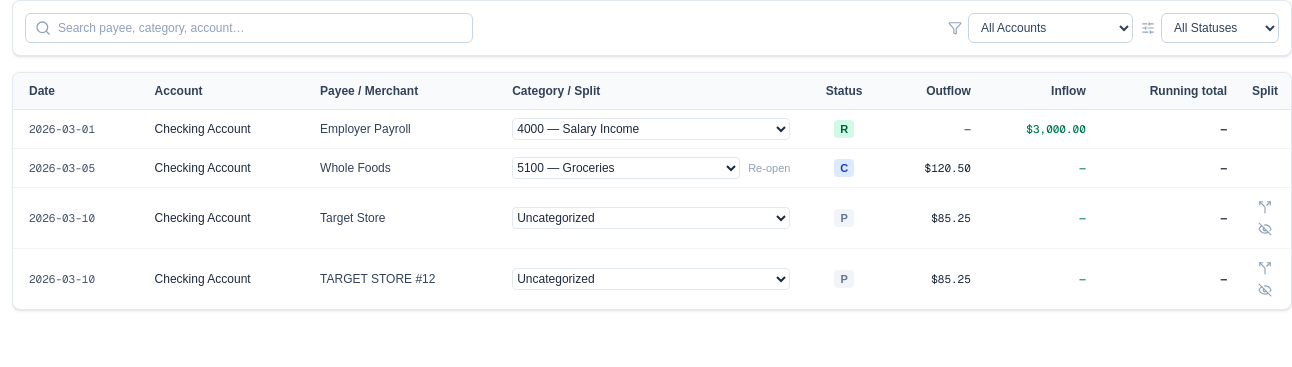
Test: TransactionRegister › offers to categorize the payee the same way from now on
Select "5100 — Groceries" in the dropdown named "Category for Target Store": (651, 218) [512,207,790,229]
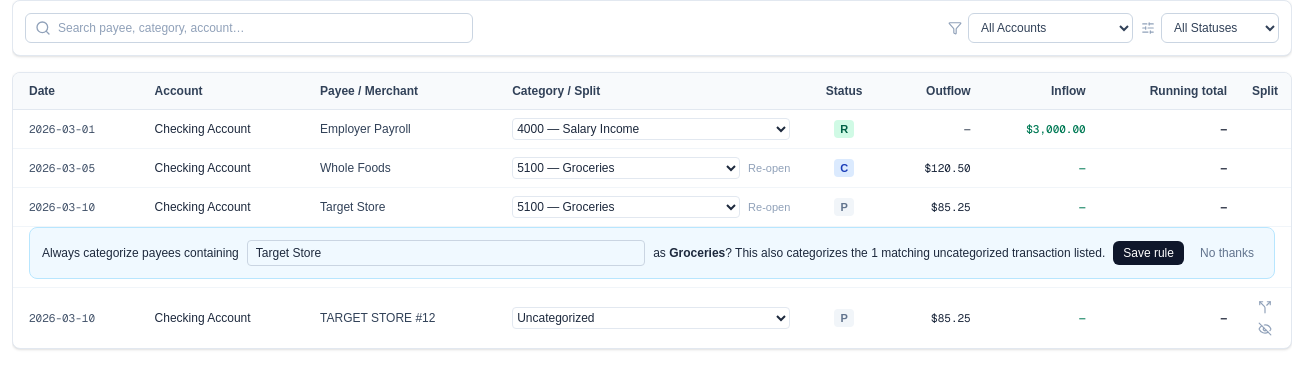
Check: the field labelled "Always categorize payees containing" holds "Target Store", box [247,240,645,266]
Check: the text "the 1 matching uncategorized transaction listed" is shown, box [735,246,1105,260]
Click the button "Save rule": (1149, 253) [1113,241,1184,265]
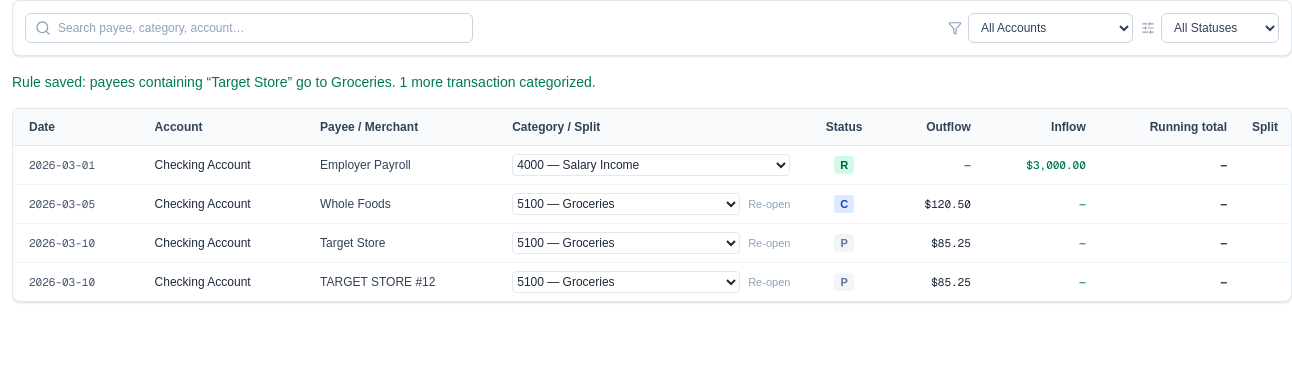
Check: the message shows "1 more transaction categorized", box [12,74,596,90]
